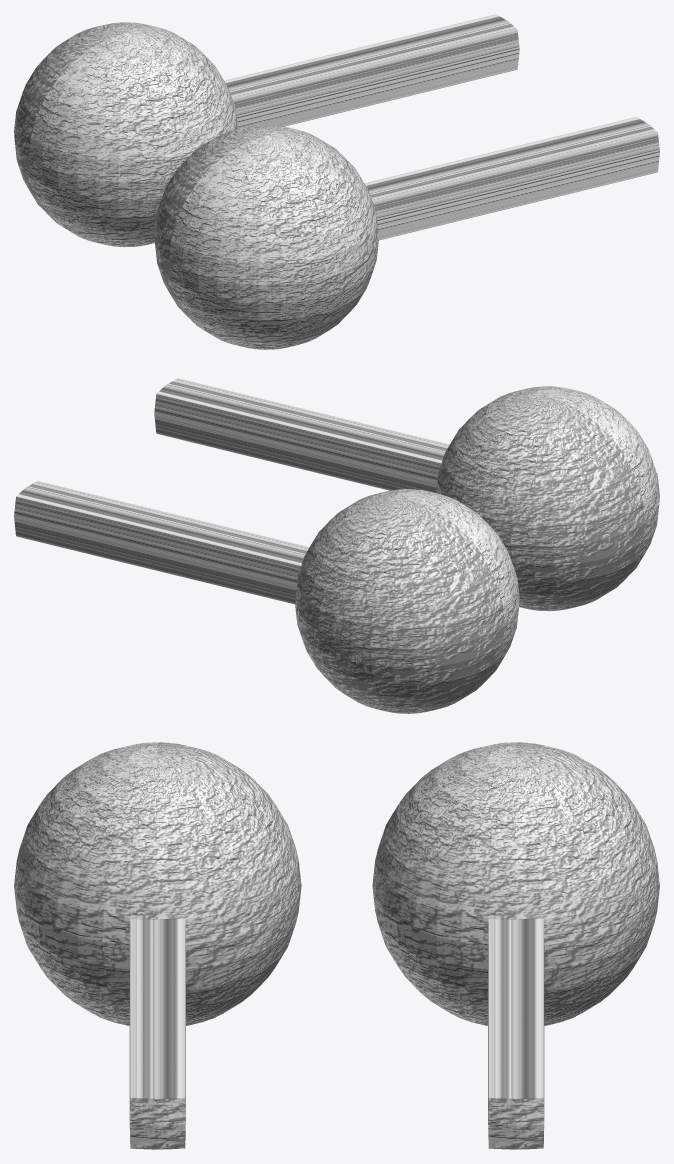
File: pendientesplata1.glb
3 renders of one model, top to bottom at view 1: azimuth 30°, elevation 25°; view 2: azimuth 150°, elevation 25°; view 3: azimuth 270°, elevation 25°, orthographic. The views are drawn at different scales.
Visible parts, largest first — view 1: Esfera, Esfera.001; view 2: Esfera.001, Esfera; view 3: Esfera, Esfera.001.
Part boxes in pixels (x1,y1,x2,y2): Esfera: [154, 117, 659, 349]; Esfera.001: [14, 14, 519, 247]; Esfera.001: [14, 481, 519, 713]; Esfera: [154, 378, 659, 611]; Esfera: [14, 742, 301, 1149]; Esfera.001: [372, 742, 659, 1149].
Bounding box in the file's own units: 4.94 × 2 × 4.49.
1 material, 1 textured.
